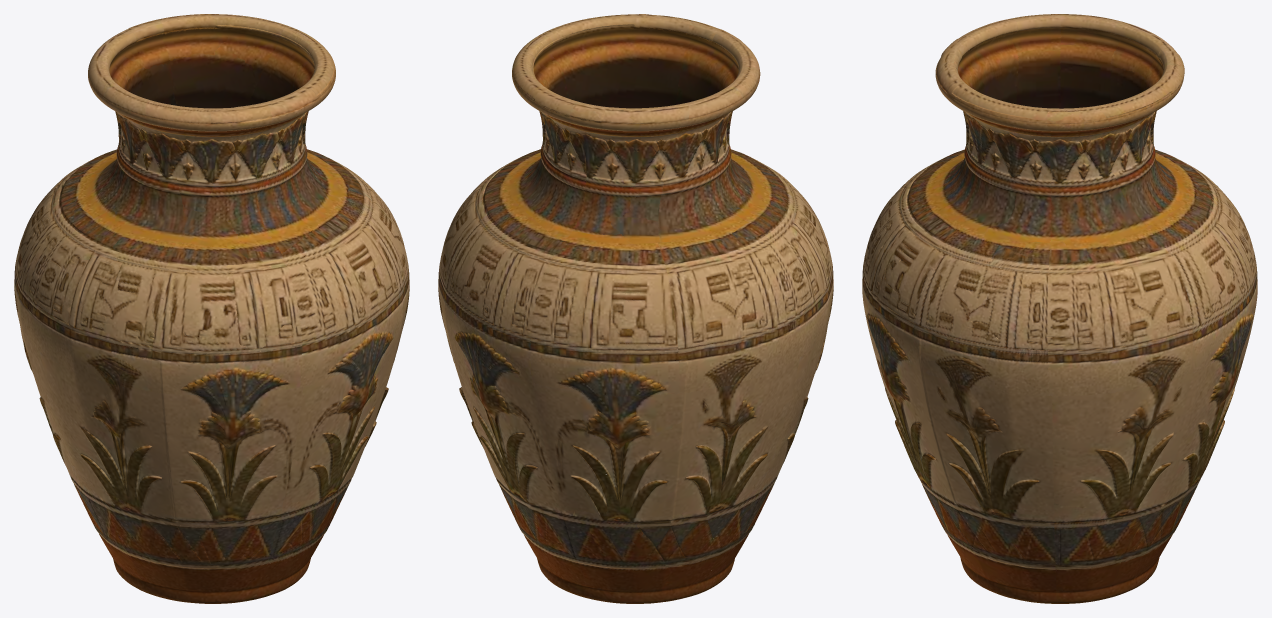
The model's file is ancientvase-optimized.glb.
3 views of the same model, side by side, from view 1: azimuth 30°, elevation 25°; view 2: azimuth 150°, elevation 25°; view 3: azimuth 270°, elevation 25° (orthographic).
Visible parts, largest first — view 1: tripo_node_88726c13-2502-43a0-ba06-34c0cd9df38a; view 2: tripo_node_88726c13-2502-43a0-ba06-34c0cd9df38a; view 3: tripo_node_88726c13-2502-43a0-ba06-34c0cd9df38a.
Boxes of the visible parts, bbox=[...] form: tripo_node_88726c13-2502-43a0-ba06-34c0cd9df38a: bbox=[14, 14, 409, 603]; tripo_node_88726c13-2502-43a0-ba06-34c0cd9df38a: bbox=[438, 14, 833, 603]; tripo_node_88726c13-2502-43a0-ba06-34c0cd9df38a: bbox=[862, 14, 1257, 603].
Bounding box in the file's own units: 0.6965 × 0.9802 × 0.6989.
Materials: 1 (1 with a texture image).
